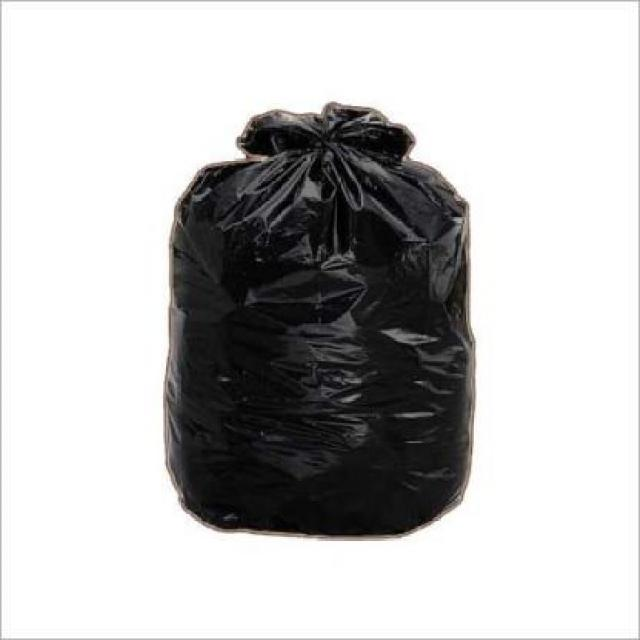garbage: (114, 76, 525, 556)
